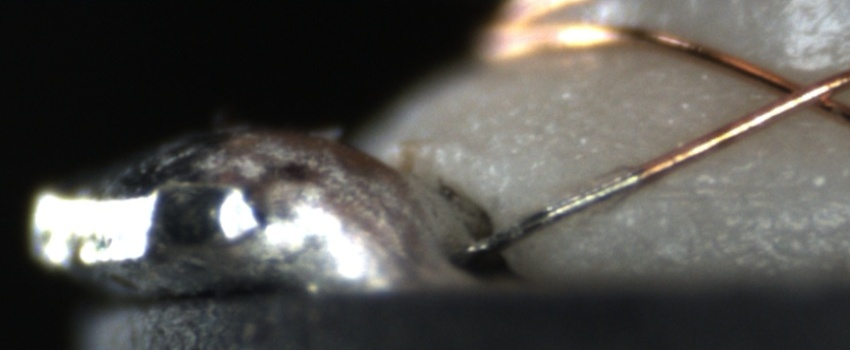CL: (753, 62, 845, 120)
DL: (631, 159, 850, 223)
TS: (460, 168, 642, 260)
